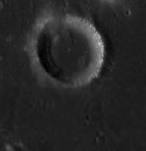crater: (11, 2, 121, 112)
